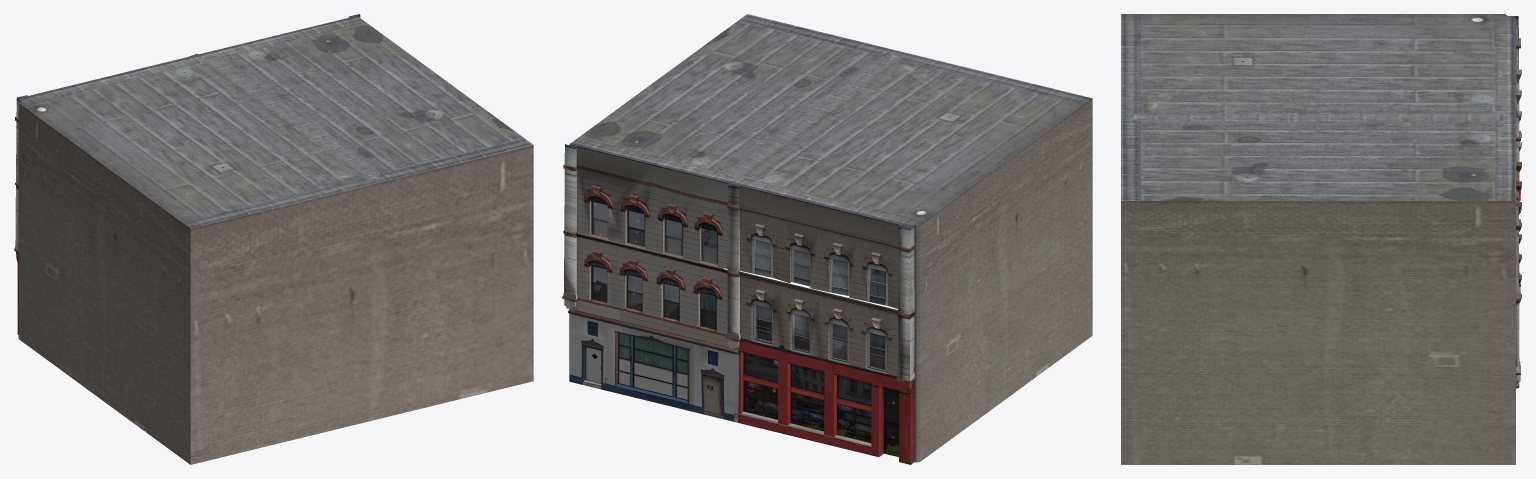
The model's file is building3grayp6.fbx.
3 renders of one model, left to right at view 1: azimuth 30°, elevation 25°; view 2: azimuth 150°, elevation 25°; view 3: azimuth 270°, elevation 25°, orthographic. The views are drawn at different scales.
Parts seen in each view (by area): view 1: Building; view 2: Building; view 3: Building.
Part boxes in pixels (x1,y1,x2,y2): Building: [14, 14, 533, 464]; Building: [562, 14, 1092, 464]; Building: [1121, 14, 1521, 464].
Size of the model in its own units: 4466 by 2897 by 3987.
1 material, 1 textured.
